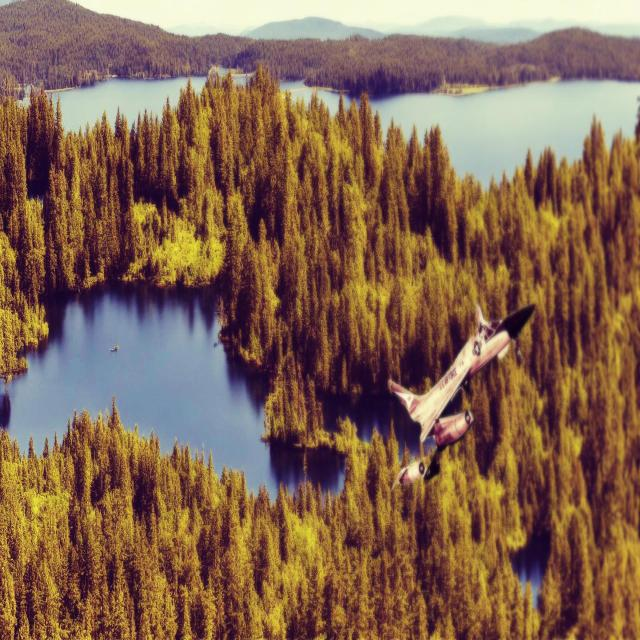airplane: (387, 300, 535, 488)
